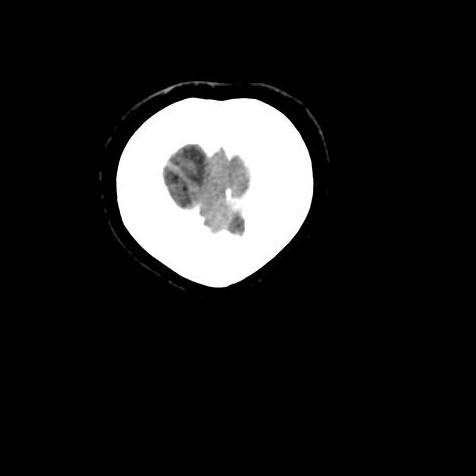Normal_Brain: (42, 1, 413, 429)
